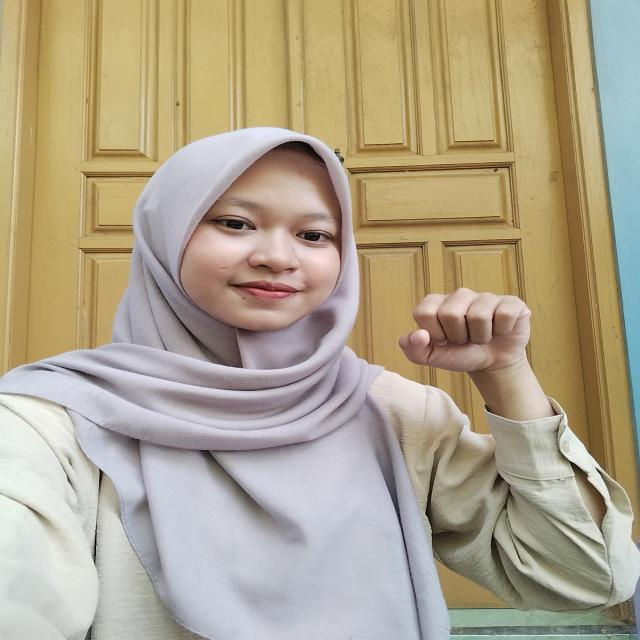baik: (384, 281, 574, 435)
